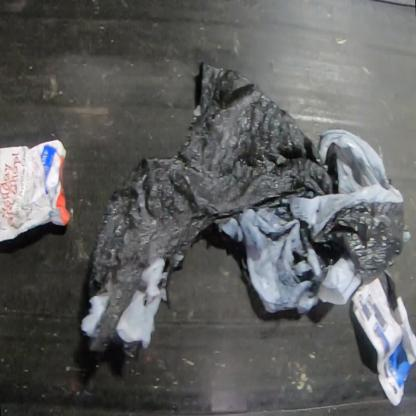soft_plastic: (81, 62, 411, 360)
